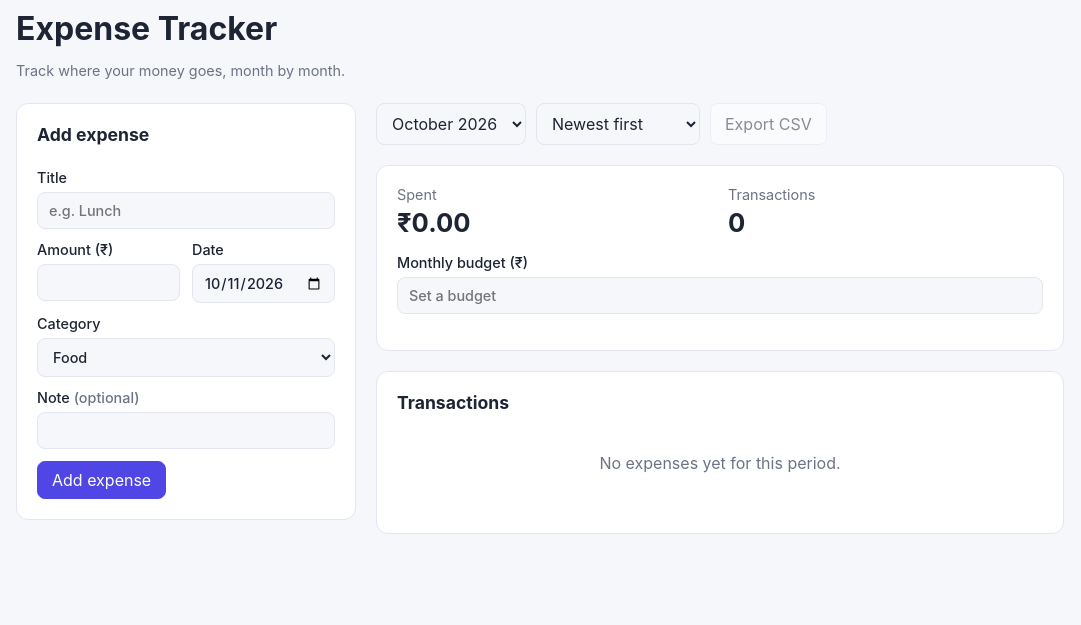
Test: App › warns when over budget
The width and height of the screenshot is (1081, 625).
Type "Phone" into the field labelled "Title".
click(186, 211); type("Phone")  # box top-left (37, 192), bottom-right (335, 229)
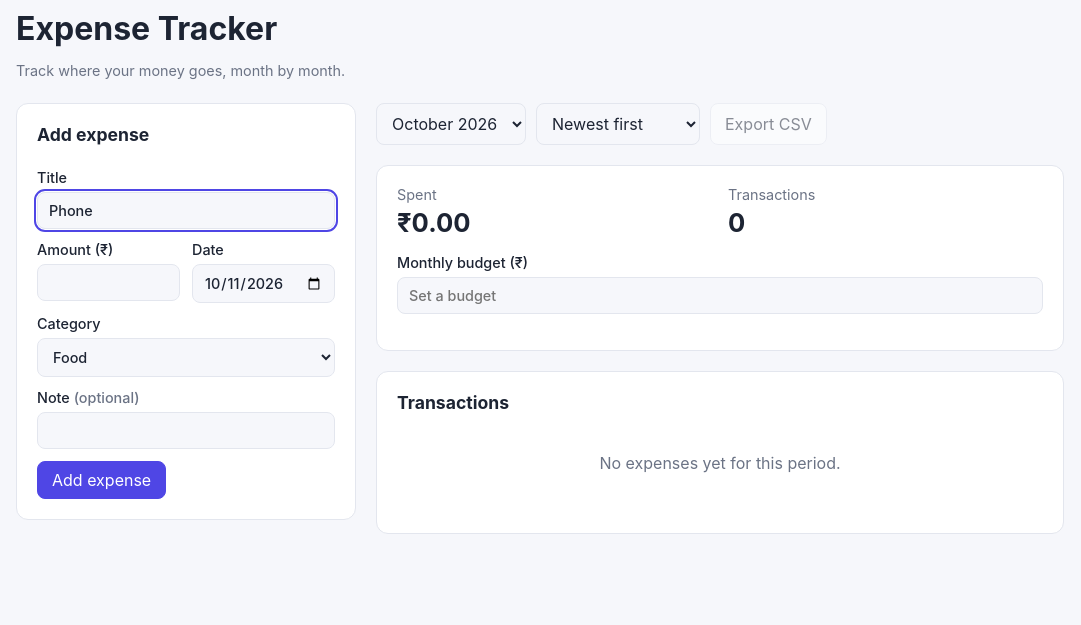
Type "5000" into the number field labelled "Amount (₹)".
click(108, 283); type("5000")  # box top-left (37, 264), bottom-right (180, 301)
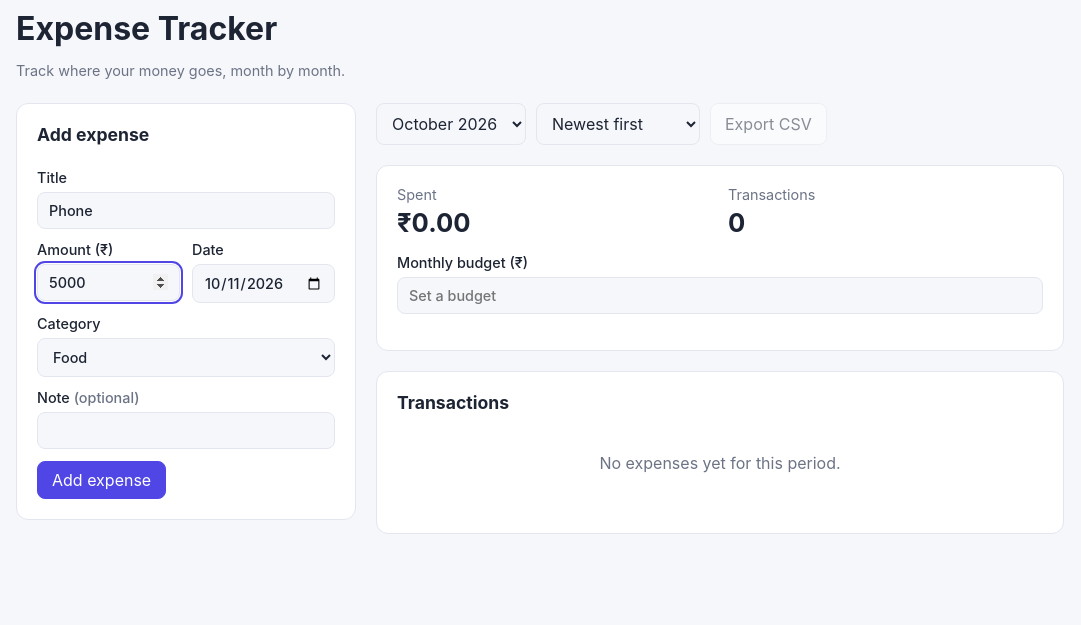
Click the button "Add expense".
click(102, 480)  # box top-left (37, 461), bottom-right (166, 499)
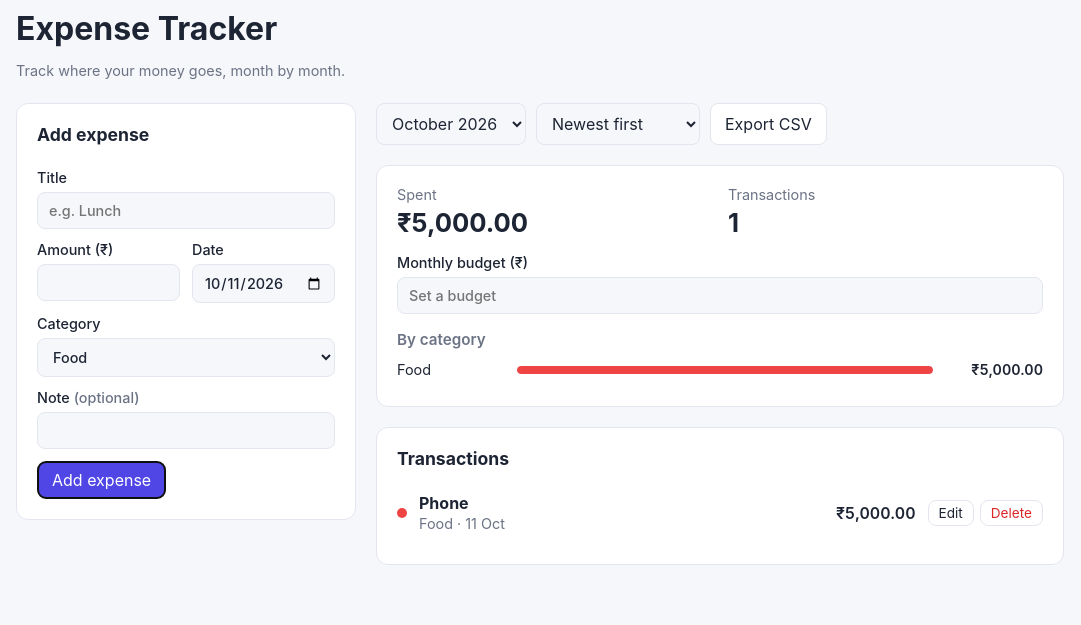
Type "4000" into the number field labelled "Monthly budget (₹)".
click(720, 296); type("4000")  # box top-left (397, 277), bottom-right (1043, 314)
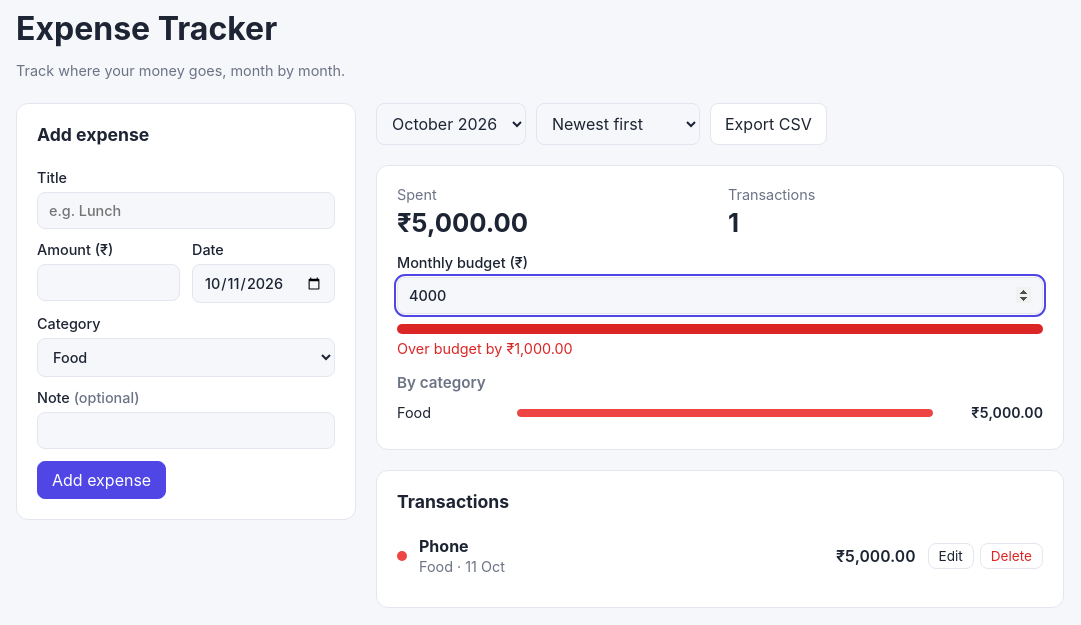
Result: the text "Over budget by ₹1,000.00" is shown at top-left (397, 340), bottom-right (573, 357)
